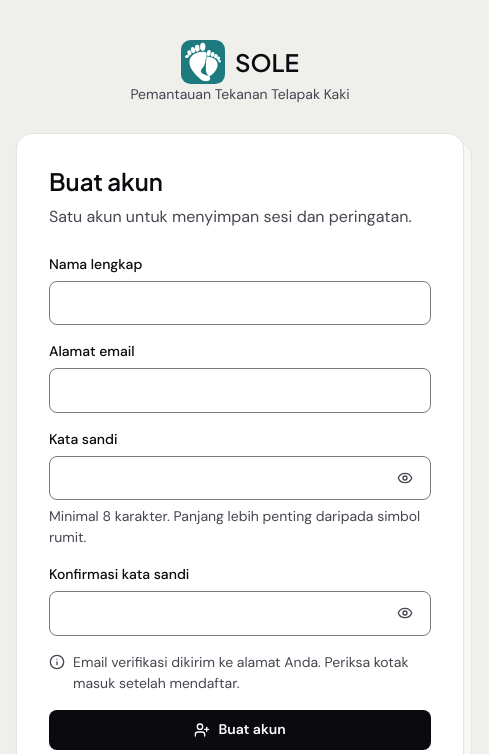
Test: register page › maps an address already in use to its own message
Type "Kader Satu" into the field labelled "Nama lengkap". click: point(240, 303)
box: [49,281,431,325]
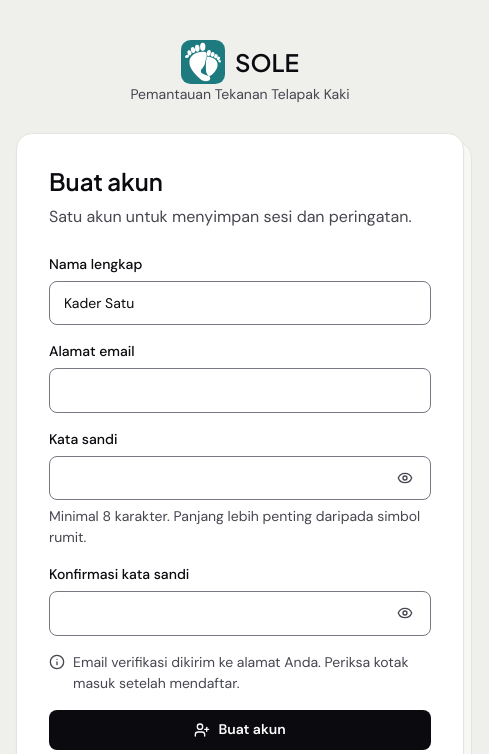
Type "kader@example.com" into the field labelled "Alamat email". click: point(240, 391)
box: [49,368,431,413]
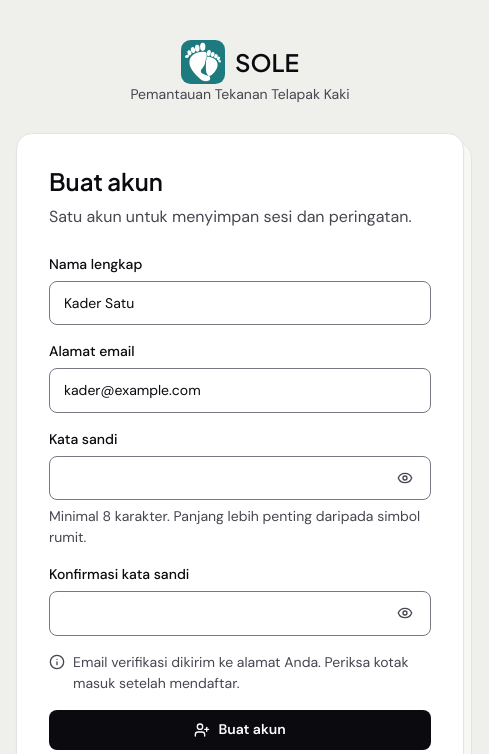
Type "Bunga-Melati-2026" into the password field labelled "Kata sandi". click: point(240, 478)
box: [49,456,431,500]
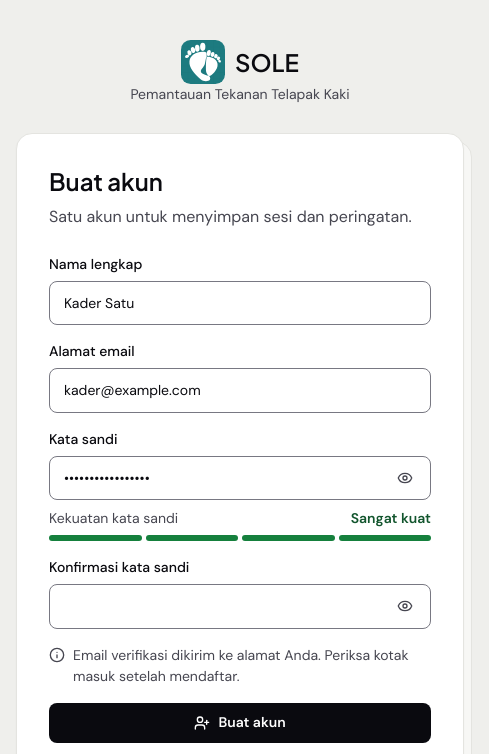
Type "Bunga-Melati-2026" into the password field labelled "Konfirmasi kata sandi". click: point(240, 606)
box: [49,584,431,629]
(page scrolled)
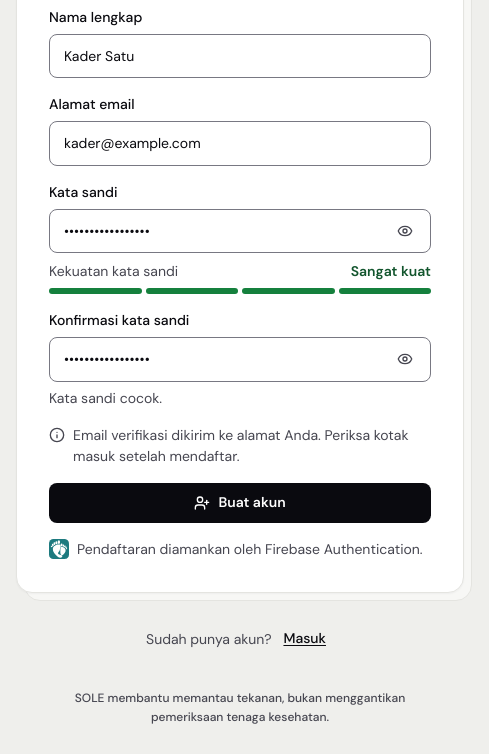
Click the button "Buat akun". click: point(240, 503)
box: [49,483,431,523]
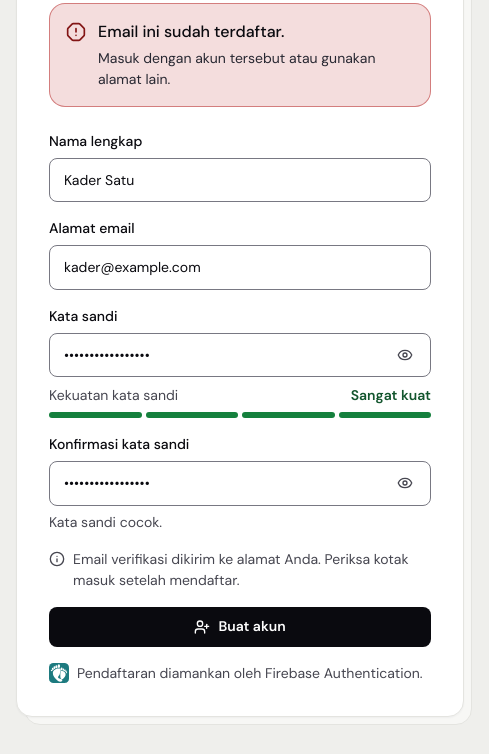
Result: the text "Email ini sudah terdaftar." is shown at [98,21,284,42]
